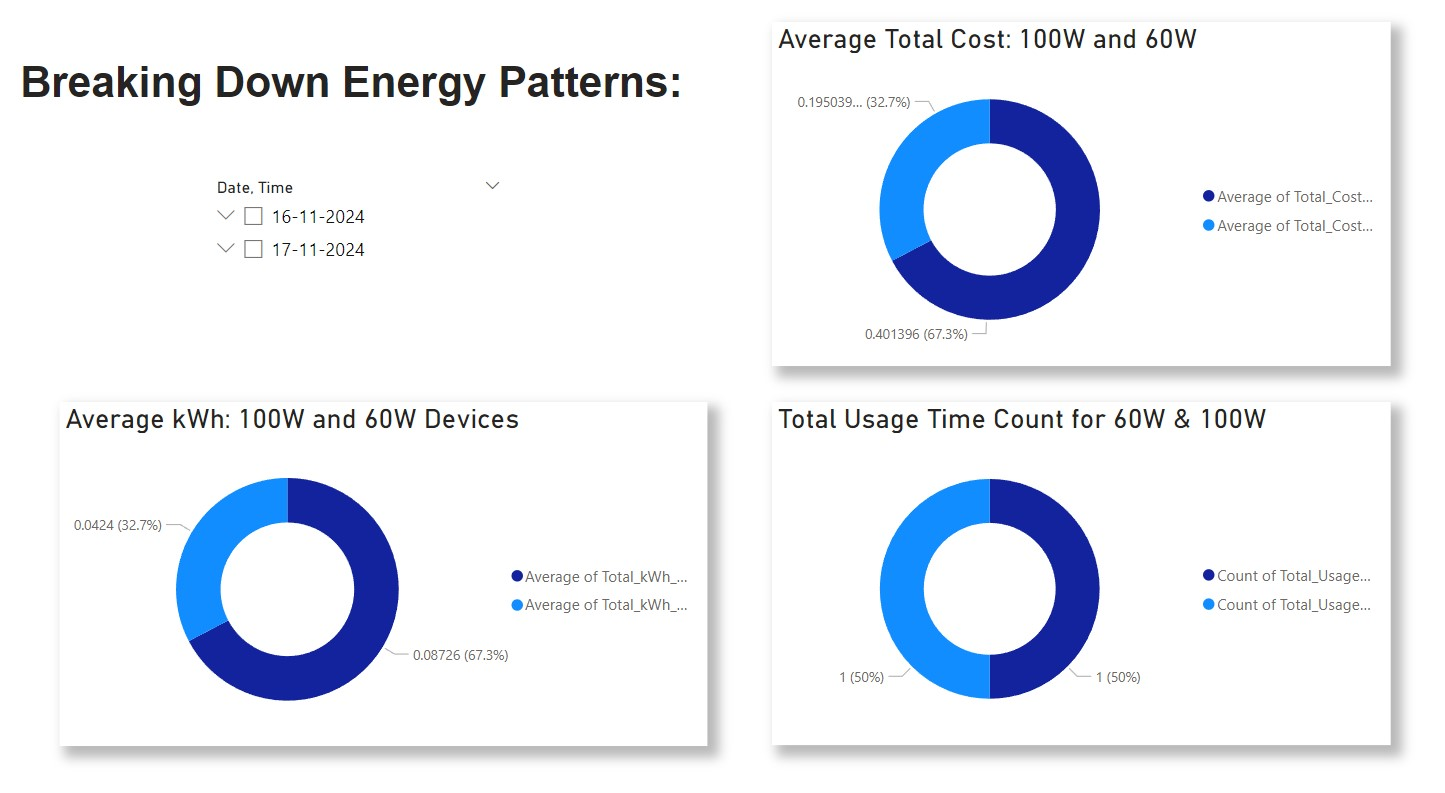

Layout of this report page (visuals, bound fields, positions):
{"tool":"powerbi","page":{"name":"Page 2","canvas":[1280,700],"ordinal":1},"visuals":[{"type":"textbox","box":[20.2,48.7,621.8,70.1],"z":0},{"type":"donutChart","title":"Total Usage Time Count for 60W & 100W","fields":{"Y":["Count(TOTAL.Total_Usage_Time60W_Format)","Count(TOTAL.Total_Usage_Hours_100w_Format)"]},"box":[683.6,355.5,542.1,300.8],"z":1000},{"type":"donutChart","title":"Average Total Cost: 100W and 60W","fields":{"Y":["Avg(TOTAL.Total_Cost_100w)","Avg(TOTAL.Total_Cost_60w)"]},"box":[683.6,21.4,542.1,302],"z":2000},{"type":"donutChart","title":"Average kWh: 100W and 60W Devices","fields":{"Y":["Avg(TOTAL.Total_kWh_100w)","Avg(TOTAL.Total_kWh_60w)"]},"box":[59.4,354.6,568,301.6],"z":3000},{"type":"slicer","fields":{"Values":["BulbData.Date","BulbData.Time"]},"box":[184.3,153.4,273.4,170],"z":4000}]}

Visuals, with their boxes in screenshot pixels (x1, y1, x2, y2), scaled from the page's 1280x700 canvas onto the 1445x793 screenshot:
textbox: left=23, top=55, right=725, bottom=135
"Total Usage Time Count for 60W & 100W" donutChart: left=772, top=403, right=1384, bottom=743
"Average Total Cost: 100W and 60W" donutChart: left=772, top=24, right=1384, bottom=366
"Average kWh: 100W and 60W Devices" donutChart: left=67, top=402, right=708, bottom=743
slicer - BulbData.Date x BulbData.Time: left=208, top=174, right=517, bottom=366
